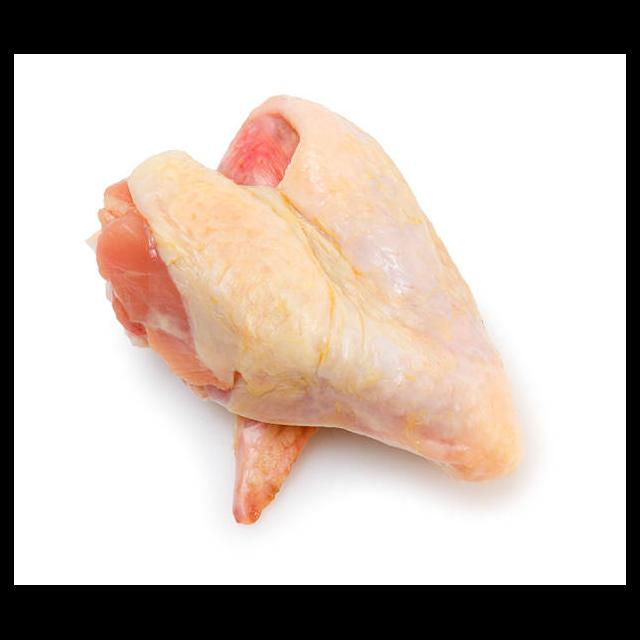chicken: (81, 90, 527, 526)
